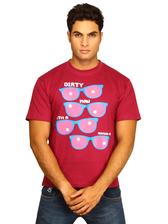clothoes: (25, 59, 145, 192)
